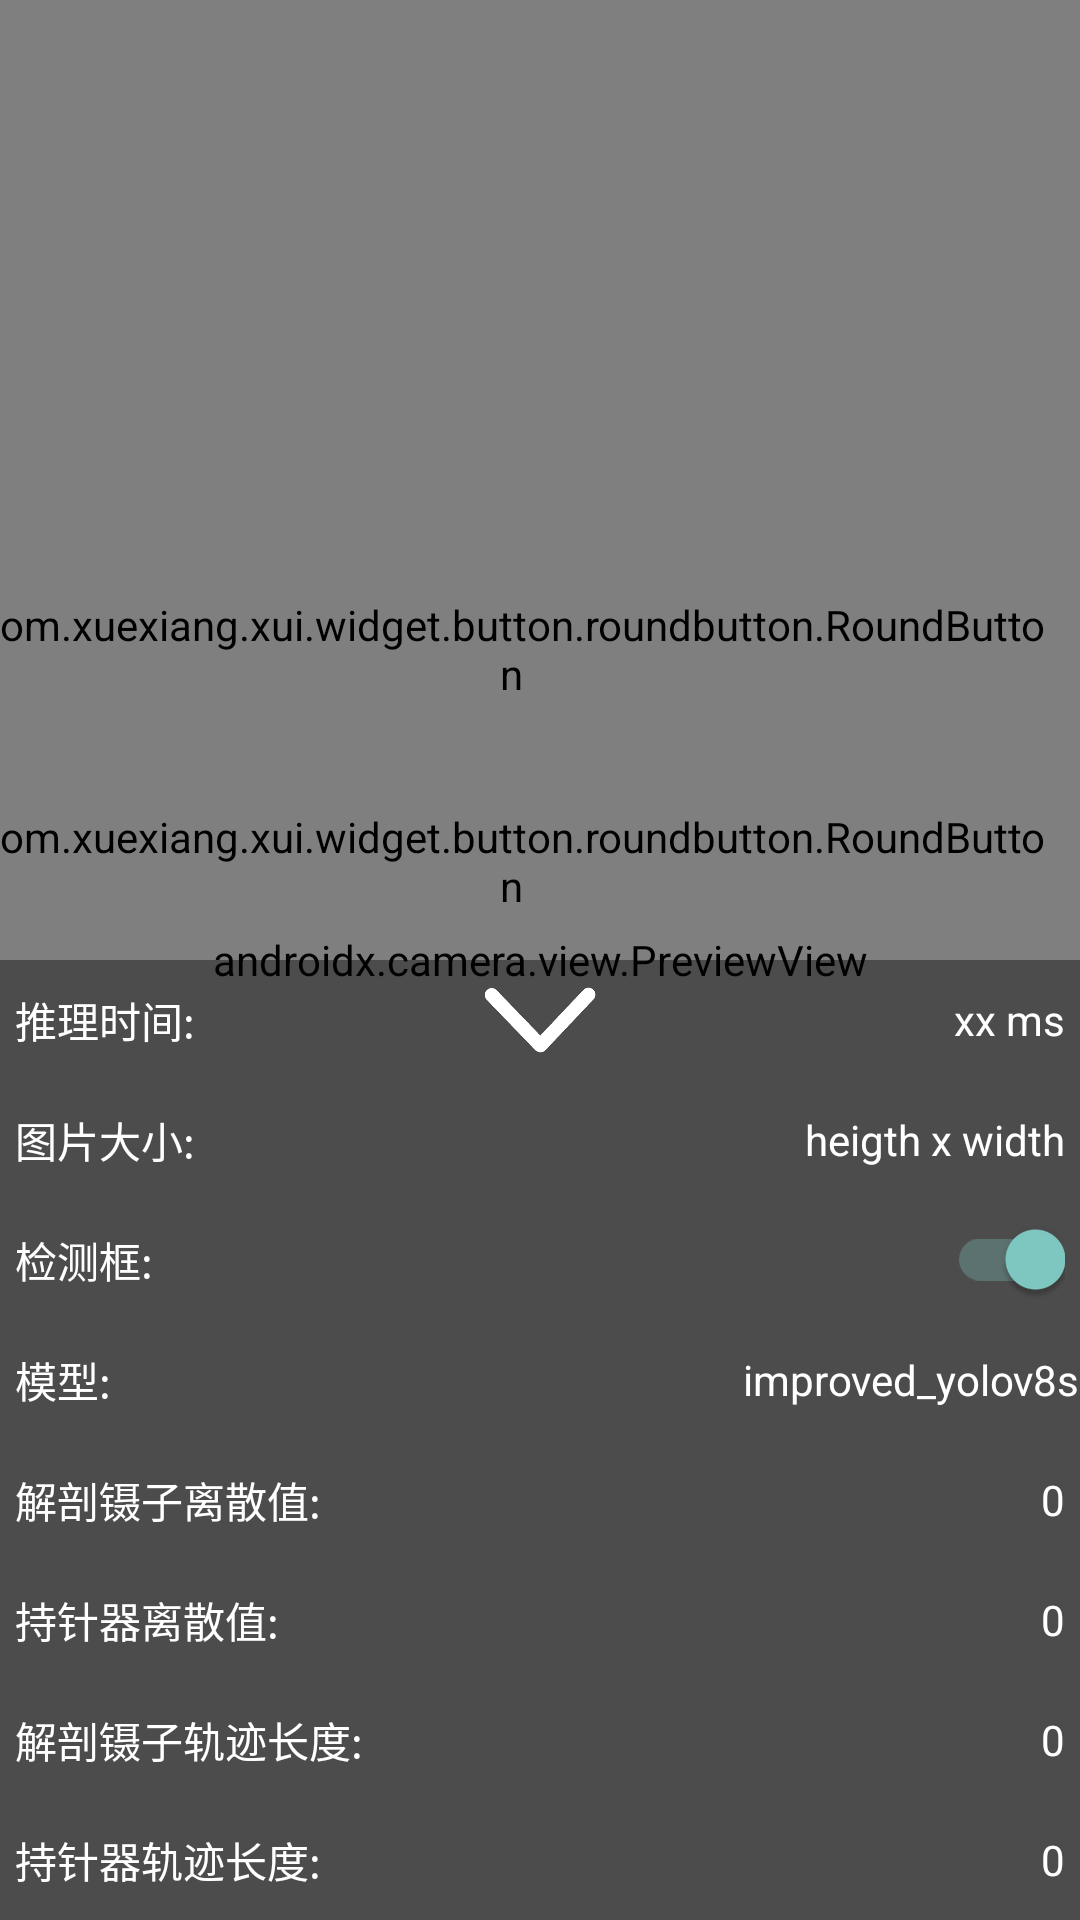

Screen size 1080*1920. Icon name, then its box in pixels as box=[x1, y1, x2, y2]:
hide: box=[485, 972, 596, 1053]
